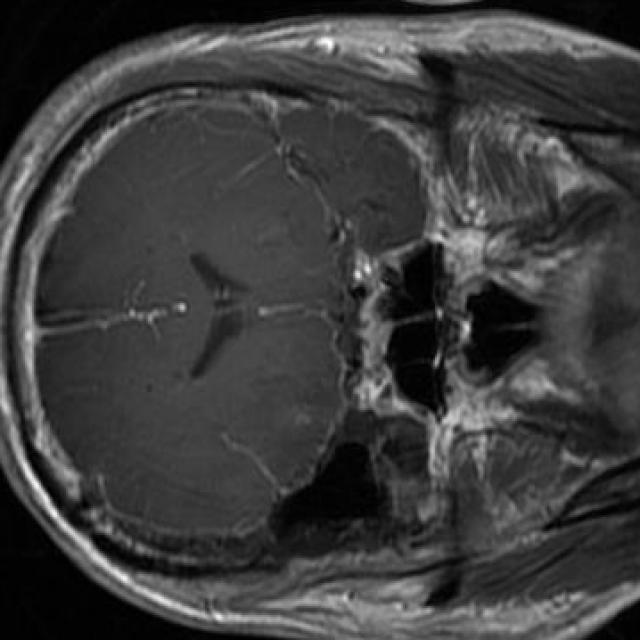glioma: (164, 410, 430, 572)
